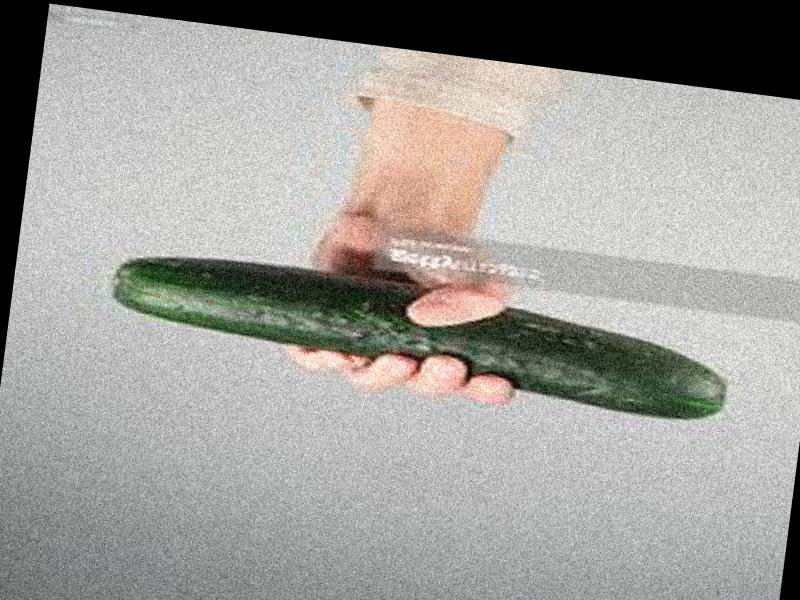Cucumber: (115, 246, 735, 426)
